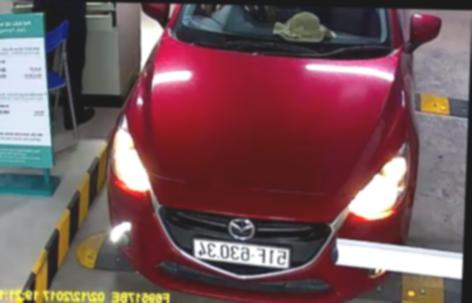License_Plate: (186, 240, 295, 270)
